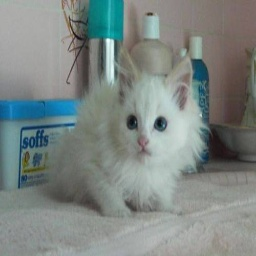cat: (49, 55, 197, 222)
